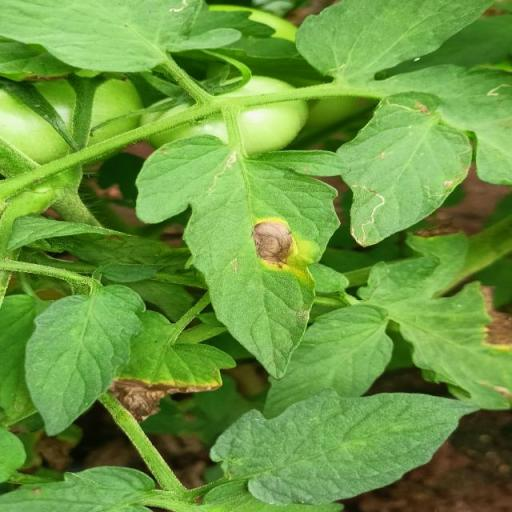disease_tomato: (132, 132, 346, 382)
